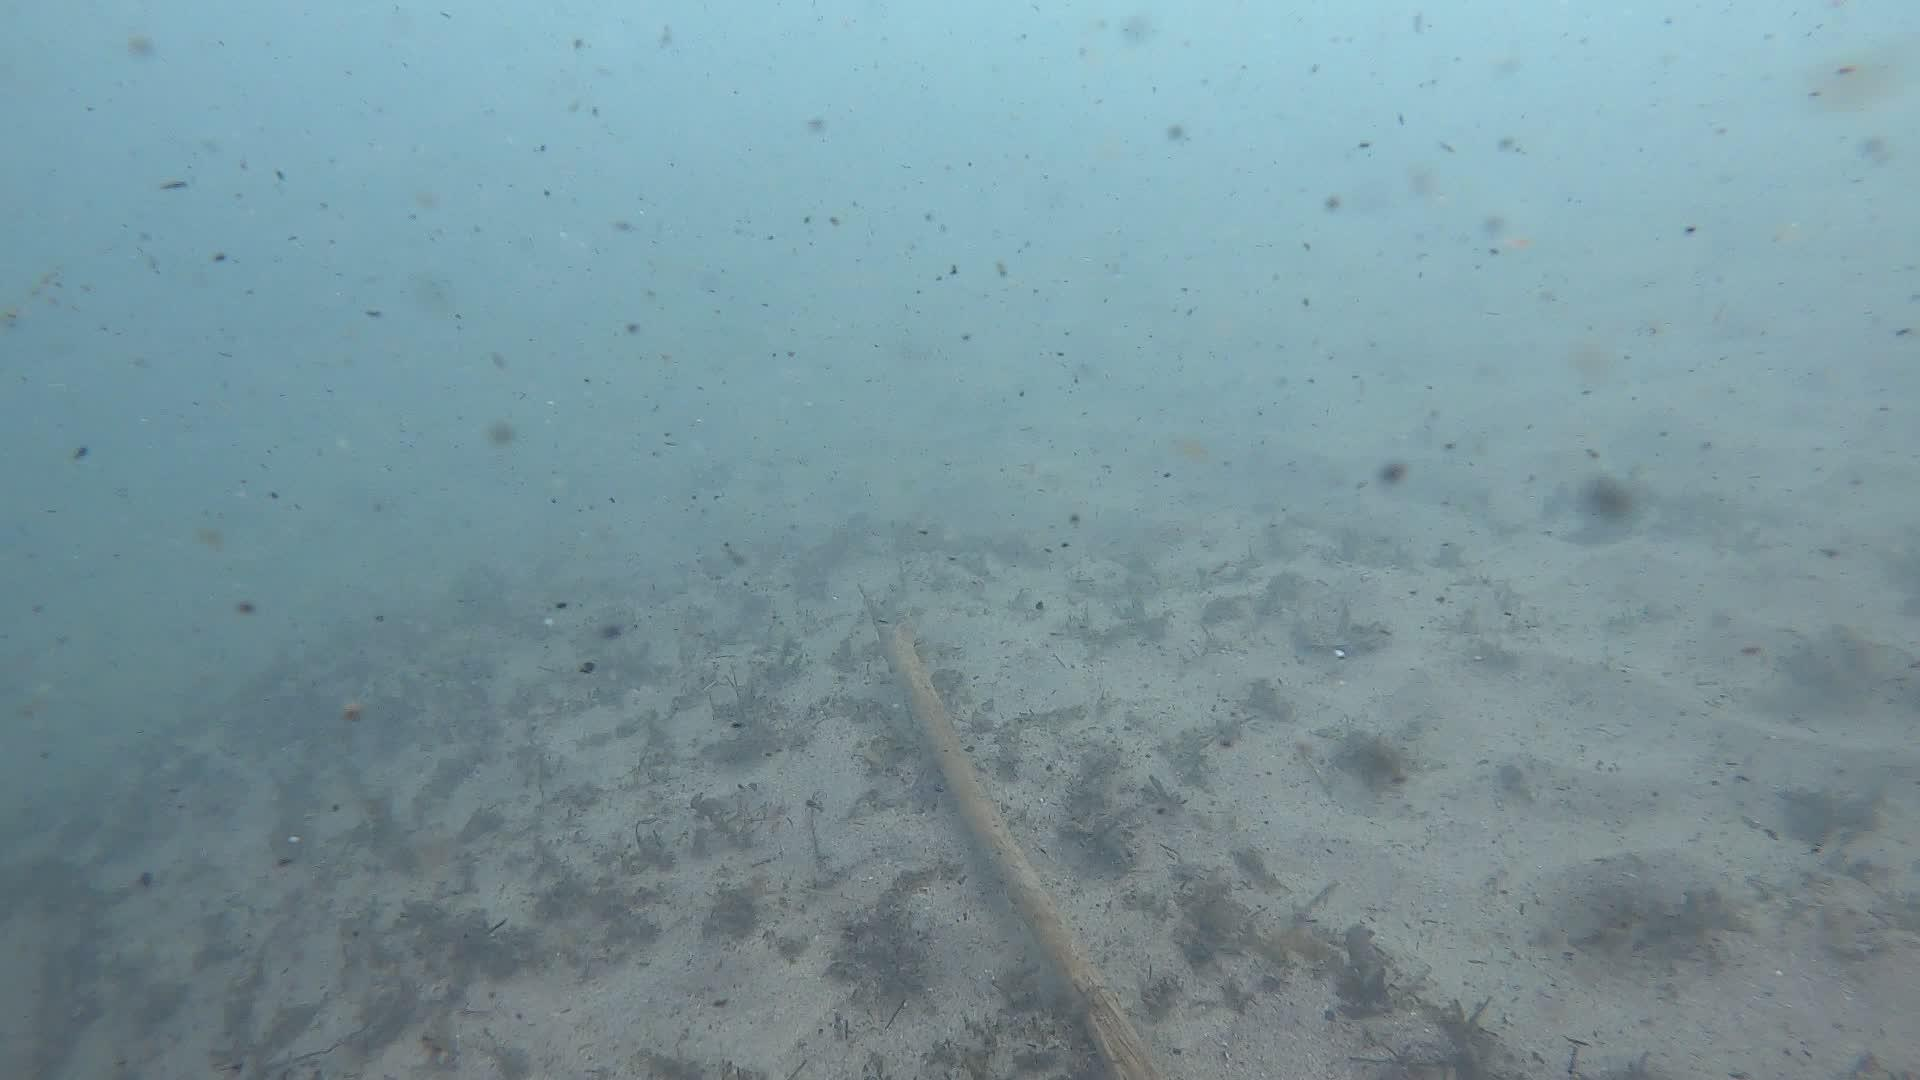wood: (853, 579, 1176, 1080)
